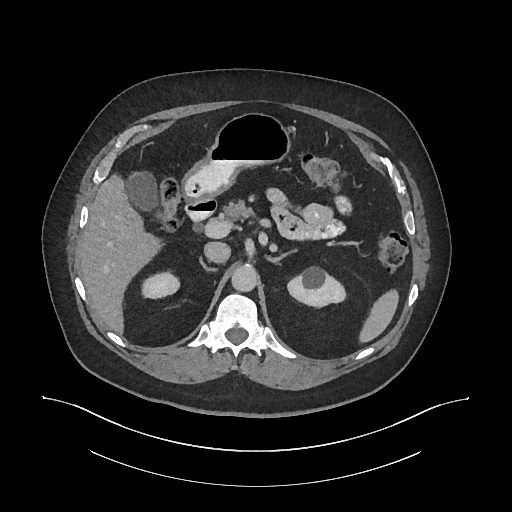Lesion: (298, 265, 329, 294)
